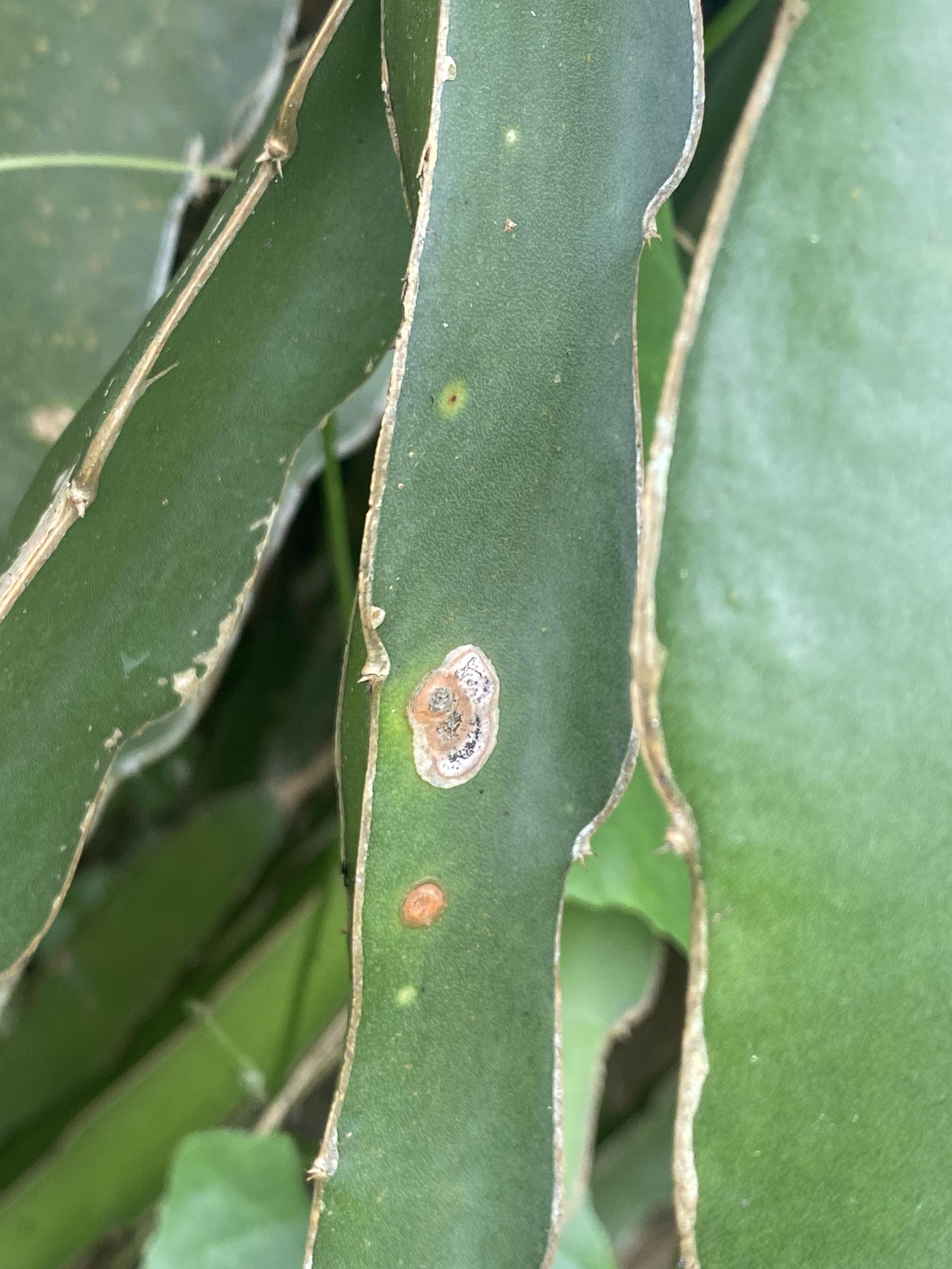stemcanker: (400, 641, 506, 796), (395, 874, 454, 935)
